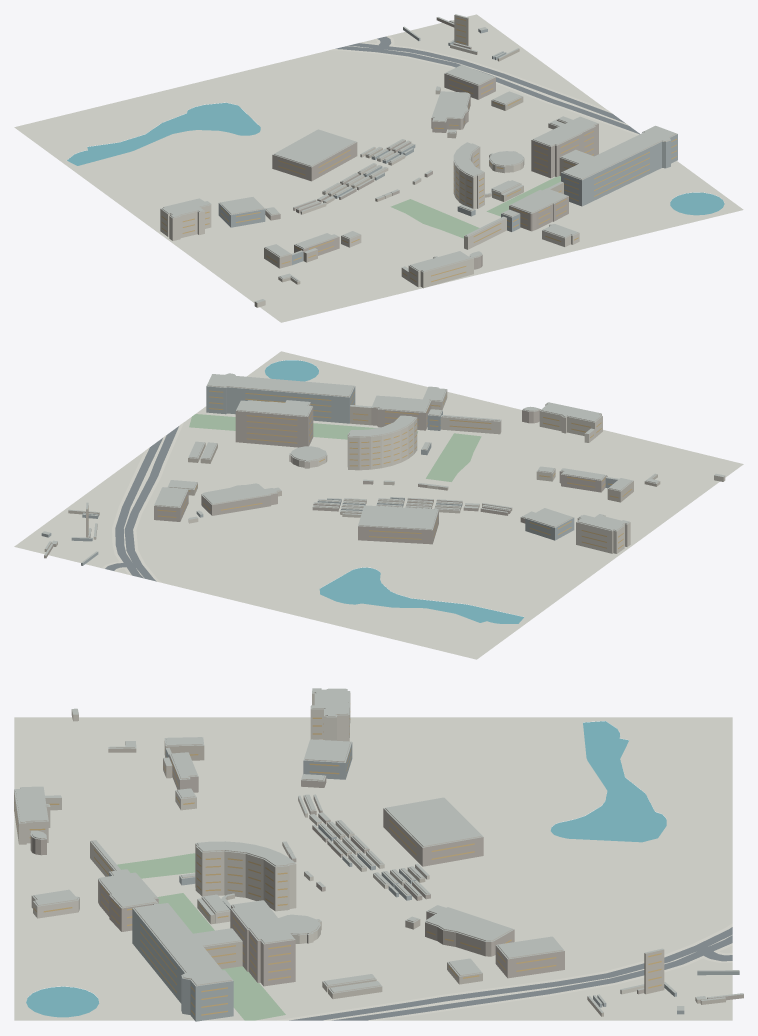
The picture shows the model from 3 angles, top to bottom: view 1: azimuth 30°, elevation 25°; view 2: azimuth 150°, elevation 25°; view 3: azimuth 270°, elevation 25°; orthographic projection. The views are drawn at different scales.
Visible parts, largest first — view 1: city; view 2: city; view 3: city.
Part boxes in pixels (<box>): city: <box>14,14,743,322</box>; city: <box>14,351,743,659</box>; city: <box>14,688,743,1021</box>.
Size of the model in its own units: 505 by 34.68 by 508.
